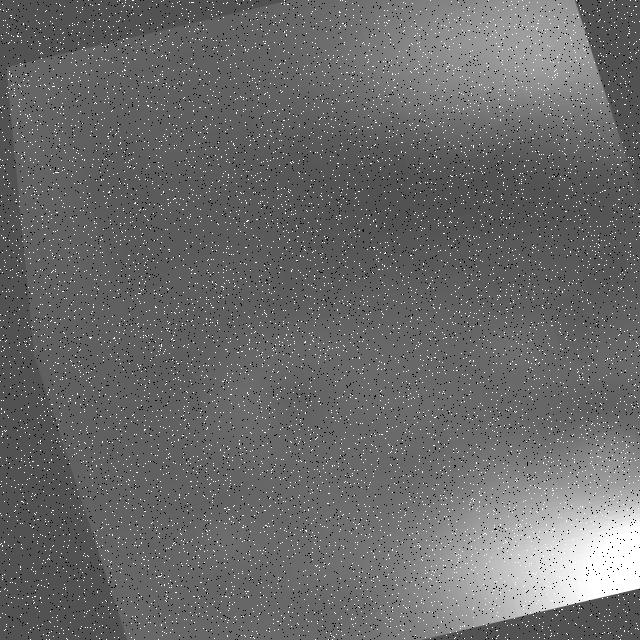person: (294, 1, 617, 181), (369, 436, 640, 639)
